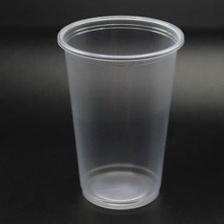glass: (50, 9, 189, 217)
